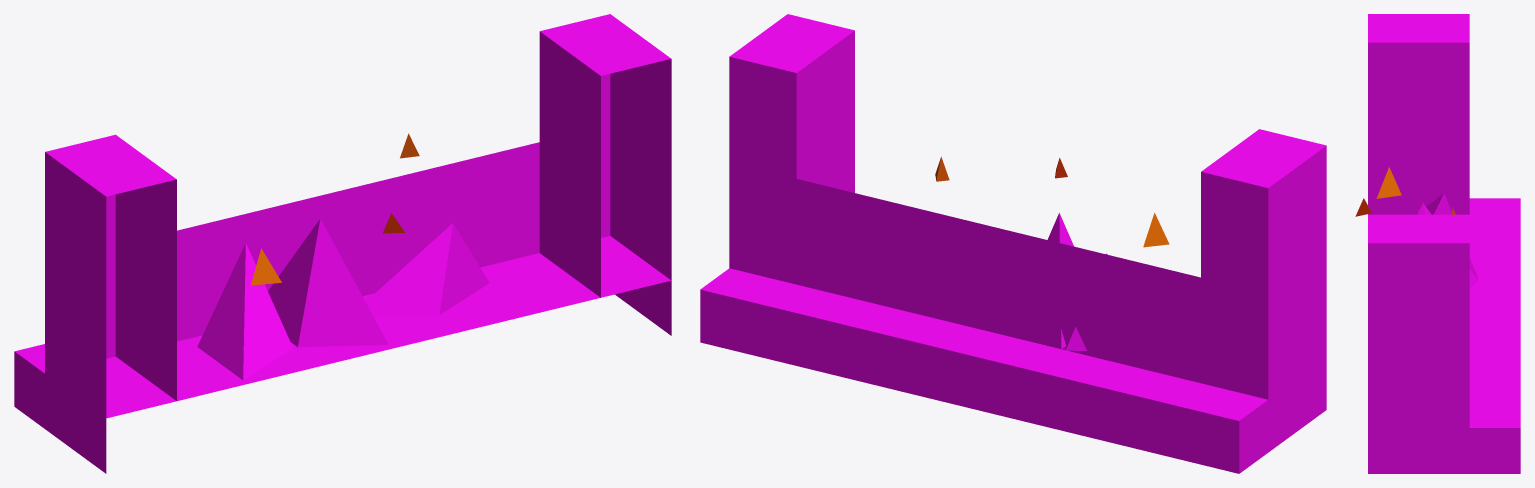
The model's file is fireplacea3.obj.
The picture shows the model from 3 angles, left to right: view 1: azimuth 30°, elevation 25°; view 2: azimuth 150°, elevation 25°; view 3: azimuth 270°, elevation 25°; orthographic projection. The views are drawn at different scales.
Visible parts, largest first — view 1: fireplacea3_back, fireplacea3_front; view 2: fireplacea3_back, fireplacea3_front; view 3: fireplacea3_back, fireplacea3_front.
Part boxes in pixels (box(x1,y1,x2,y2)): fireplacea3_back: box(14, 14, 671, 473); fireplacea3_front: box(197, 218, 489, 380); fireplacea3_back: box(700, 14, 1326, 473); fireplacea3_front: box(1047, 213, 1107, 350); fireplacea3_back: box(1355, 14, 1520, 473); fireplacea3_front: box(1416, 193, 1477, 287).
Size of the model in its own units: 2.56 by 1.2 by 0.78.
